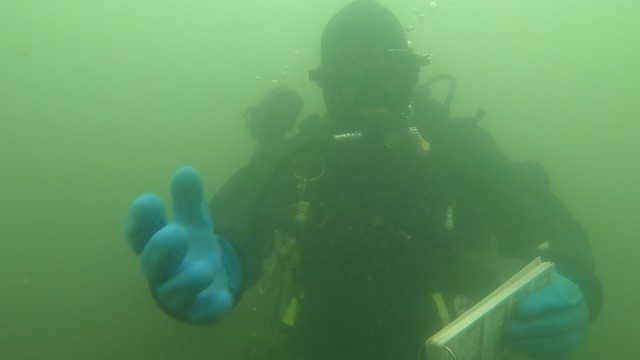Diver: (103, 4, 606, 343)
Hand: (107, 176, 257, 323), (501, 257, 596, 350)
Head: (307, 6, 440, 152)
